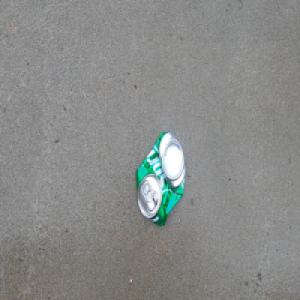SodaCan: (134, 129, 186, 229)
